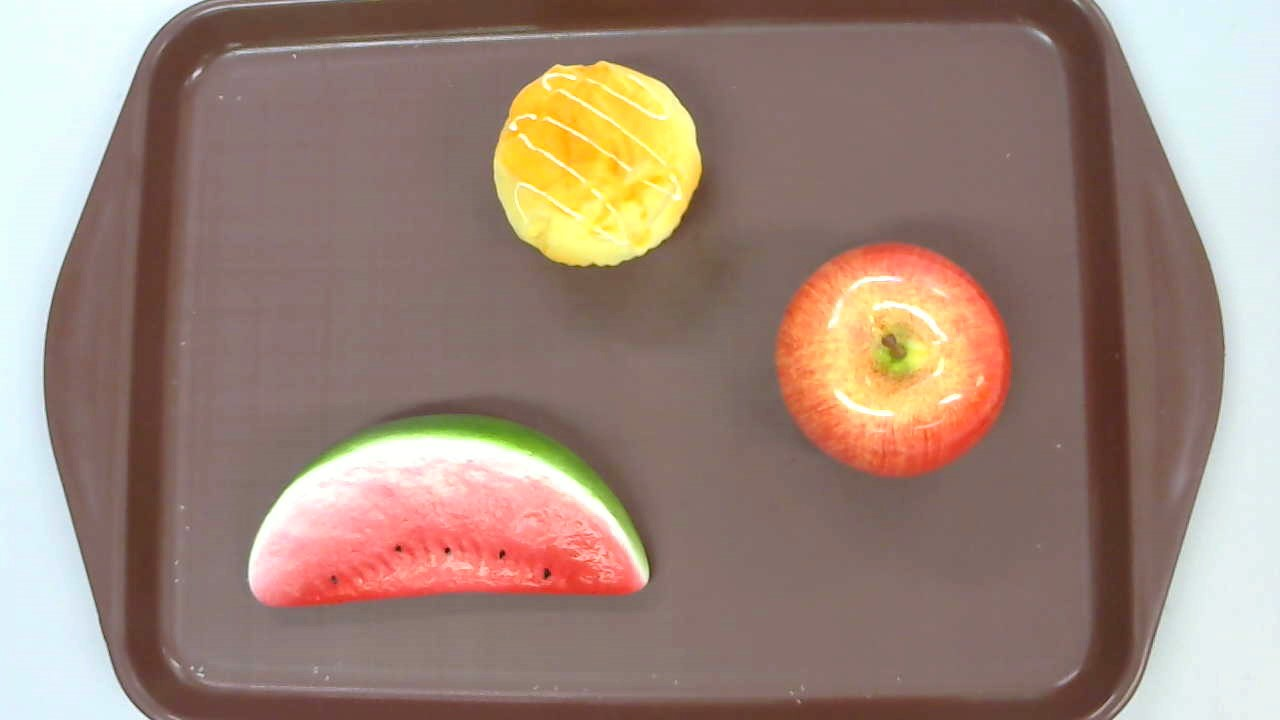cupcake: (491, 59, 702, 269)
red apple: (773, 241, 1011, 478)
water melon: (248, 413, 650, 609)
